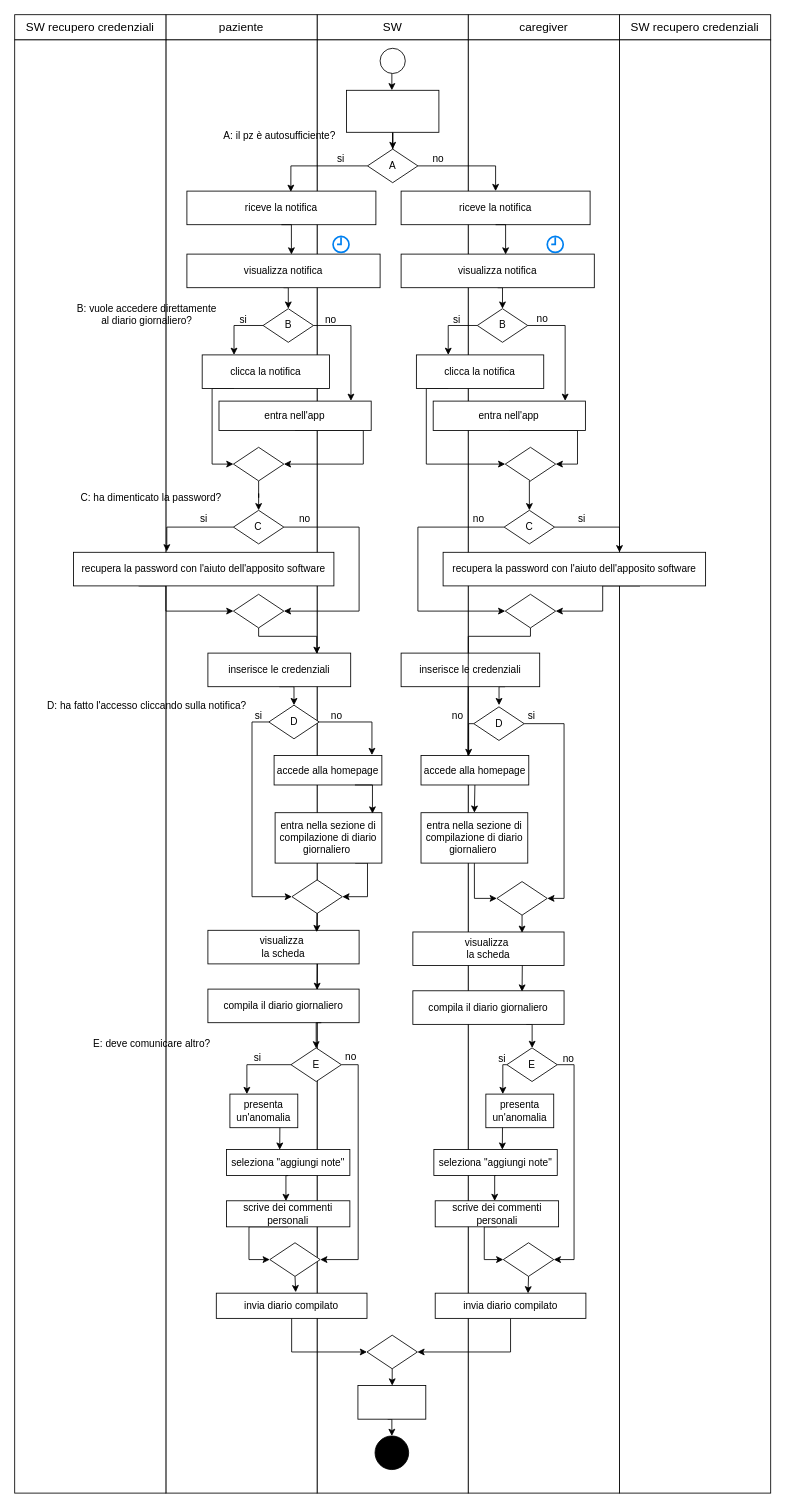
This 785x1508 diagram has some shape labels left out. Here are the shapes that lost their labels. From the top down, the centre of each, then its label:
At point (392, 110): "invio notifica compilazione diario giornaliero".
At point (391, 1402): "salva la scheda".
